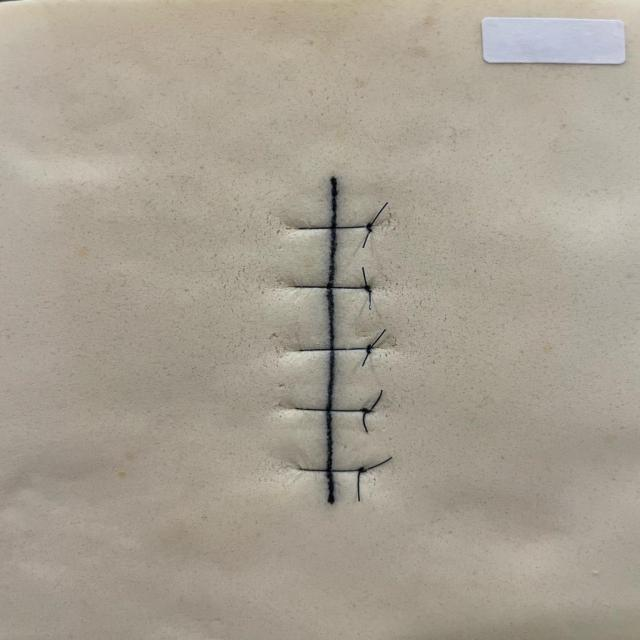knot: (361, 283, 374, 295), (358, 406, 375, 415), (364, 221, 375, 234), (364, 343, 374, 356), (355, 465, 369, 474)
leftover: (368, 201, 389, 229), (363, 455, 394, 472), (369, 328, 387, 349), (369, 389, 384, 412), (356, 469, 363, 502), (361, 228, 372, 249), (360, 349, 371, 367), (361, 410, 369, 433), (360, 265, 368, 287), (367, 289, 372, 311)
stitch: (297, 224, 370, 230), (294, 407, 365, 412), (299, 347, 370, 352), (298, 467, 362, 472), (295, 285, 367, 289)
wound: (325, 176, 336, 505)
